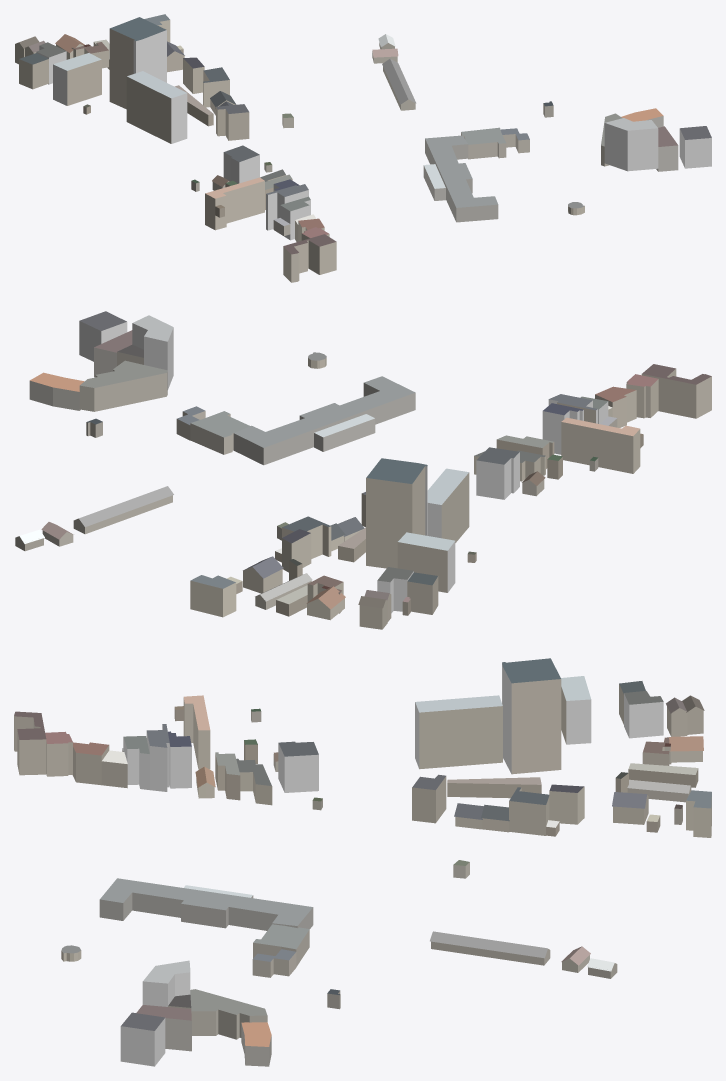
The picture shows the model from 3 angles, top to bottom: view 1: azimuth 30°, elevation 25°; view 2: azimuth 150°, elevation 25°; view 3: azimuth 270°, elevation 25°; orthographic projection. The views are drawn at different scales.
Parts seen in each view (by area): view 1: tuile; view 2: tuile; view 3: tuile.
Part boxes in pixels (x1=…): tuile: x1=15, y1=14, x2=711, y2=282; tuile: x1=15, y1=311, x2=711, y2=629; tuile: x1=14, y1=658, x2=711, y2=1066.
Bounding box in the file's own units: 258 × 59.34 × 256.
